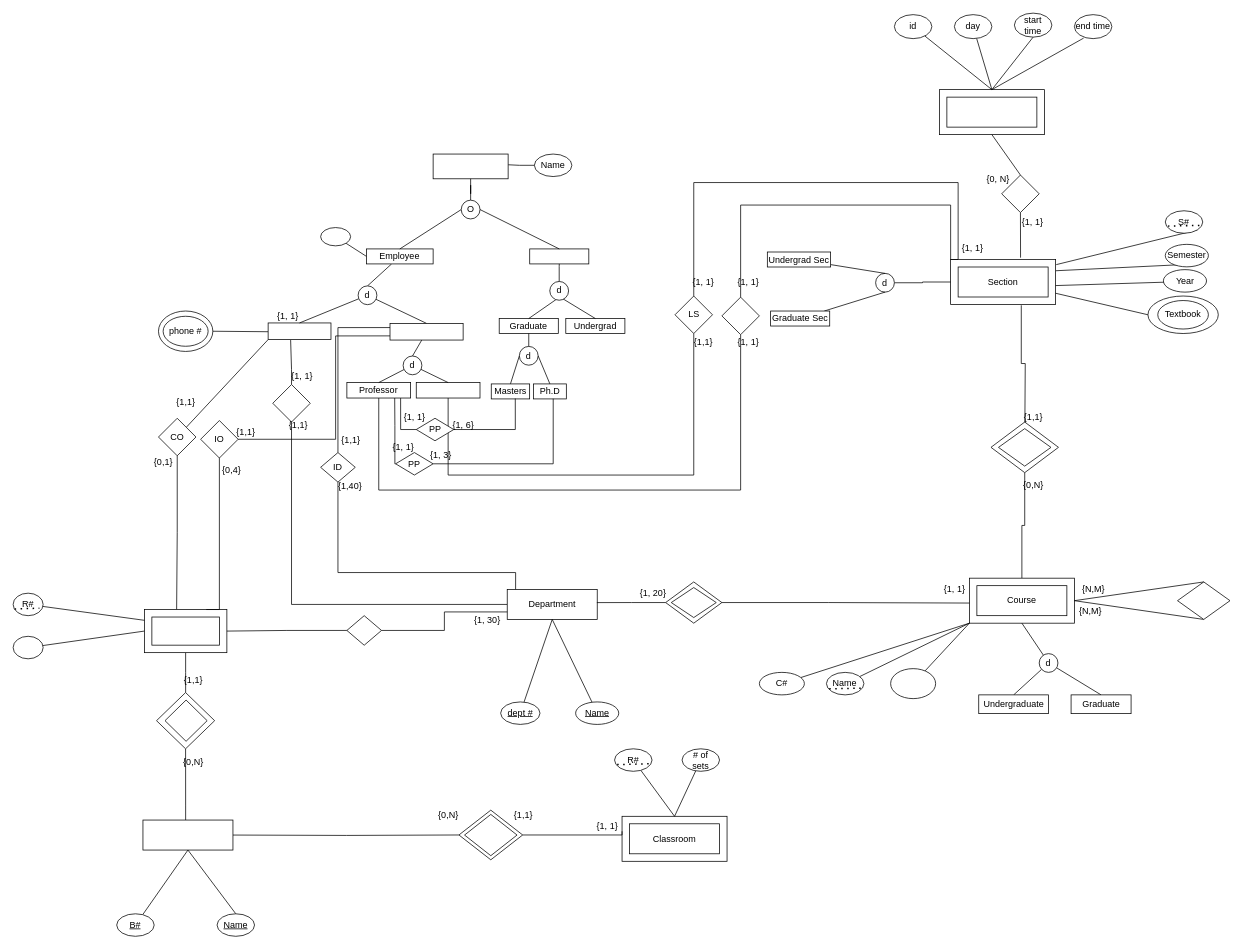
Some shapes in this 1244 by 950 pixel diagram are drawn without their labels. The shapes that lost their labels are listed below. From the top down, each one's box as (x1, y1, x2, y2) in pixels, then its label:
(946, 96, 1037, 127): Timeslot
(432, 153, 508, 179): Person
(1001, 174, 1039, 213): ST
(320, 227, 351, 246): E#
(529, 248, 589, 264): Student
(267, 322, 331, 340): Chair
(389, 323, 463, 340): Instructor
(721, 296, 759, 335): PS
(272, 384, 310, 422): CD
(416, 382, 480, 398): Lecturer
(998, 428, 1051, 466): CS
(670, 587, 716, 618): DC
(1177, 581, 1230, 619): prereqs
(12, 636, 43, 659): Size
(151, 616, 219, 645): Office
(346, 615, 382, 645): DO
(890, 668, 936, 699): Credit Hours
(164, 699, 207, 741): BO
(142, 819, 233, 850): Building
(464, 814, 517, 856): BC
